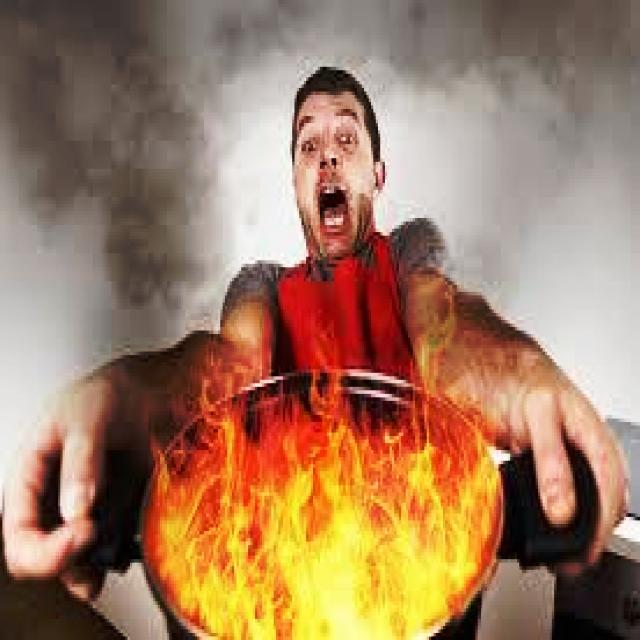api: (152, 353, 502, 631)
